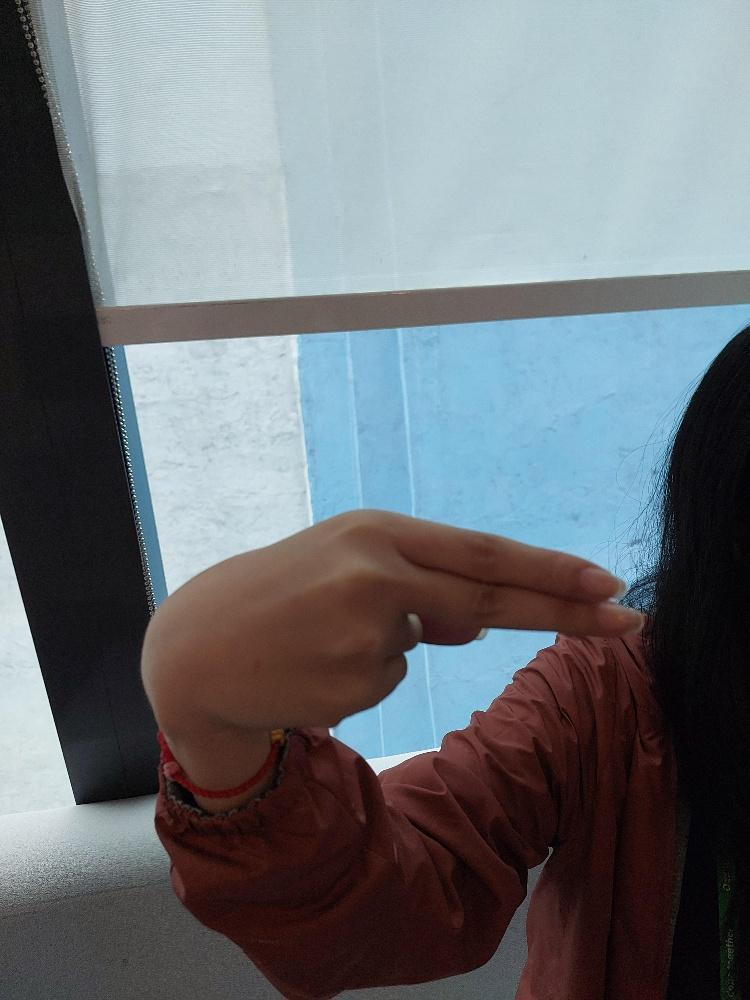h: (134, 504, 646, 734)
